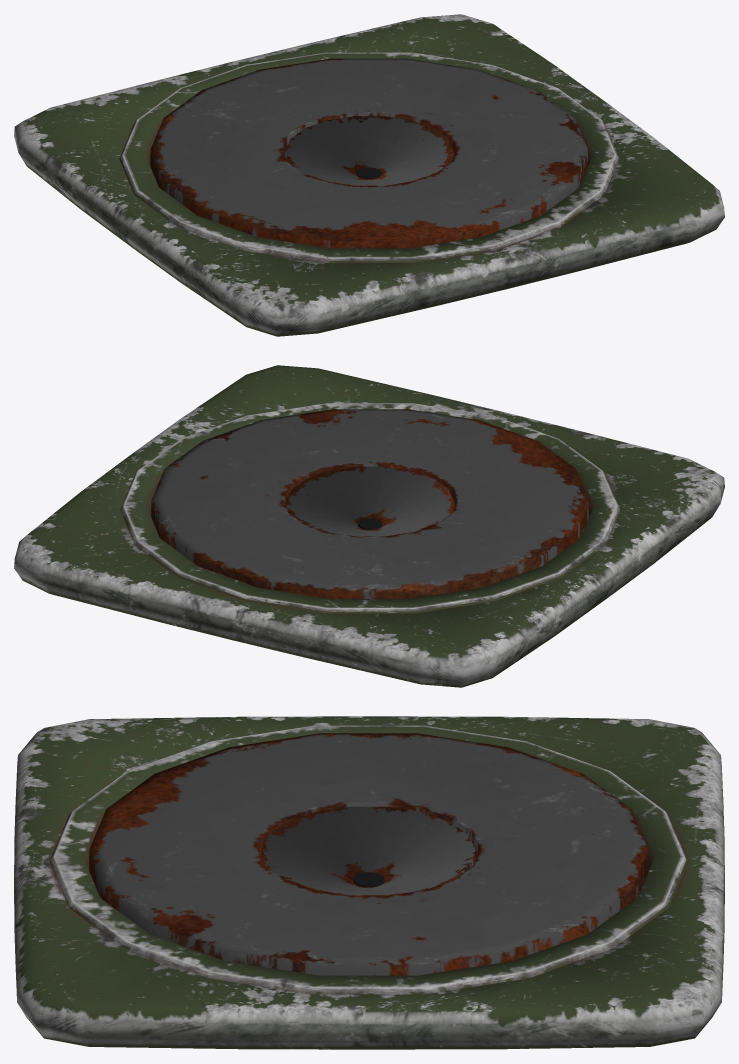
File: pressureplate.fbx
3 renders of one model, top to bottom at view 1: azimuth 30°, elevation 25°; view 2: azimuth 150°, elevation 25°; view 3: azimuth 270°, elevation 25°, orthographic. The views are drawn at different scales.
Parts seen in each view (by area): view 1: timer.002, button; view 2: timer.002, button; view 3: timer.002, button.
Boxes of the visible parts, x1,y1,x2,y2 form: timer.002: (14, 14, 724, 336); button: (150, 58, 587, 248); timer.002: (14, 365, 724, 687); button: (151, 409, 588, 598); timer.002: (14, 716, 724, 1049); button: (89, 733, 648, 975).
Size of the model in its own units: 20 by 1.78 by 19.84.
